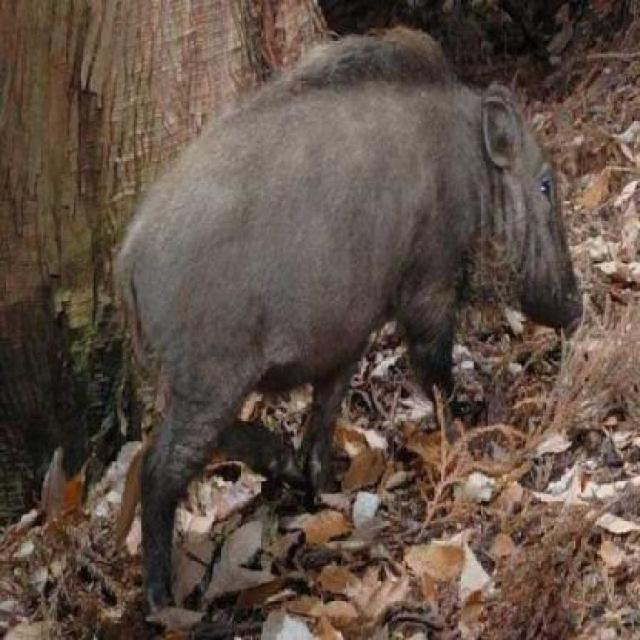pig: (63, 3, 587, 619)
